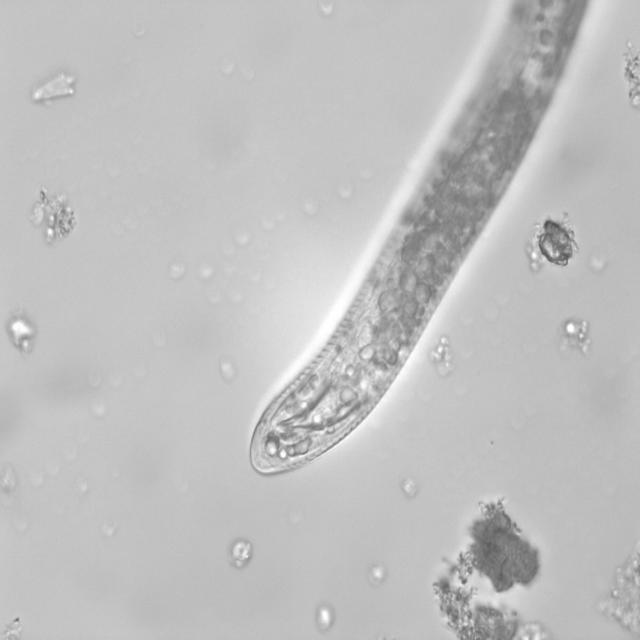Meloidogyne: (226, 327, 409, 491)
